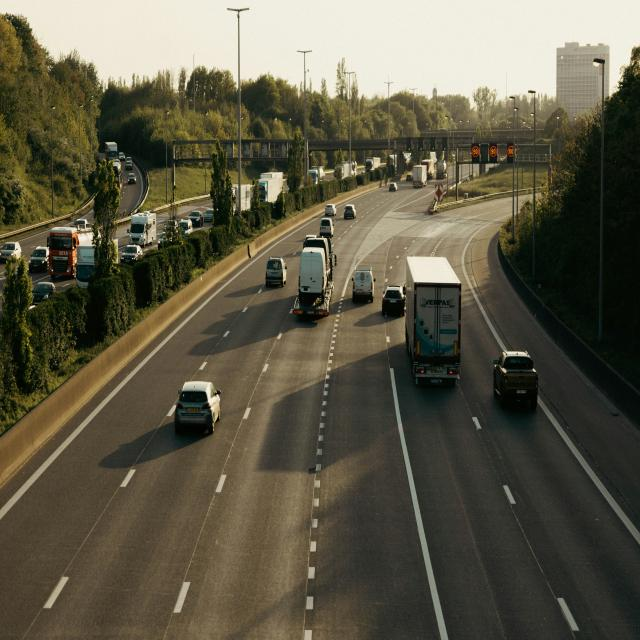Trucks: (405, 257, 461, 385), (293, 237, 336, 316), (47, 227, 92, 279), (105, 142, 118, 161), (365, 157, 380, 171)
